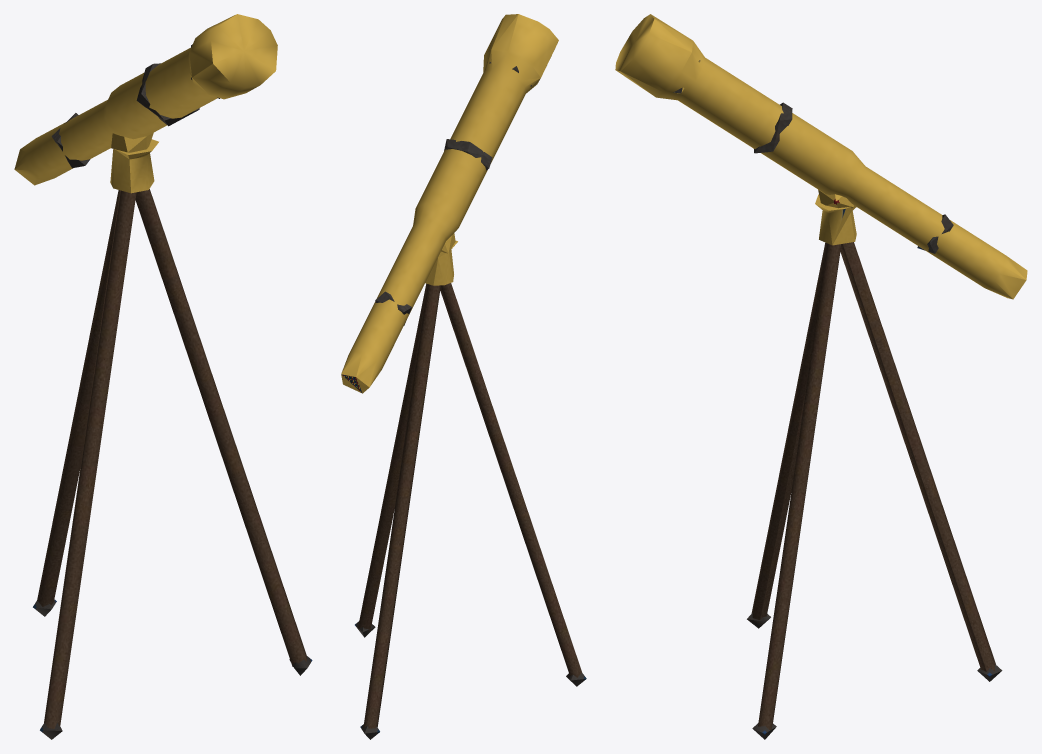
Rendered from telescope_lod1.glb.
3 renders of one model, left to right at view 1: azimuth 30°, elevation 25°; view 2: azimuth 150°, elevation 25°; view 3: azimuth 270°, elevation 25°, orthographic. The views are drawn at different scales.
Visible parts, largest first — view 1: telescope; view 2: telescope; view 3: telescope.
Part boxes in pixels (<box>): telescope: <box>14,14,312,739</box>; telescope: <box>341,14,586,739</box>; telescope: <box>615,14,1027,739</box>.
Size of the model in its own units: 0.7214 by 1.84 by 1.03.
1 material, 1 textured.
